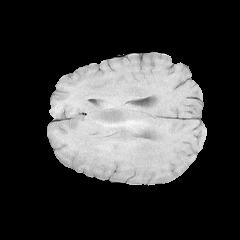glioma: (70, 104, 158, 165)
